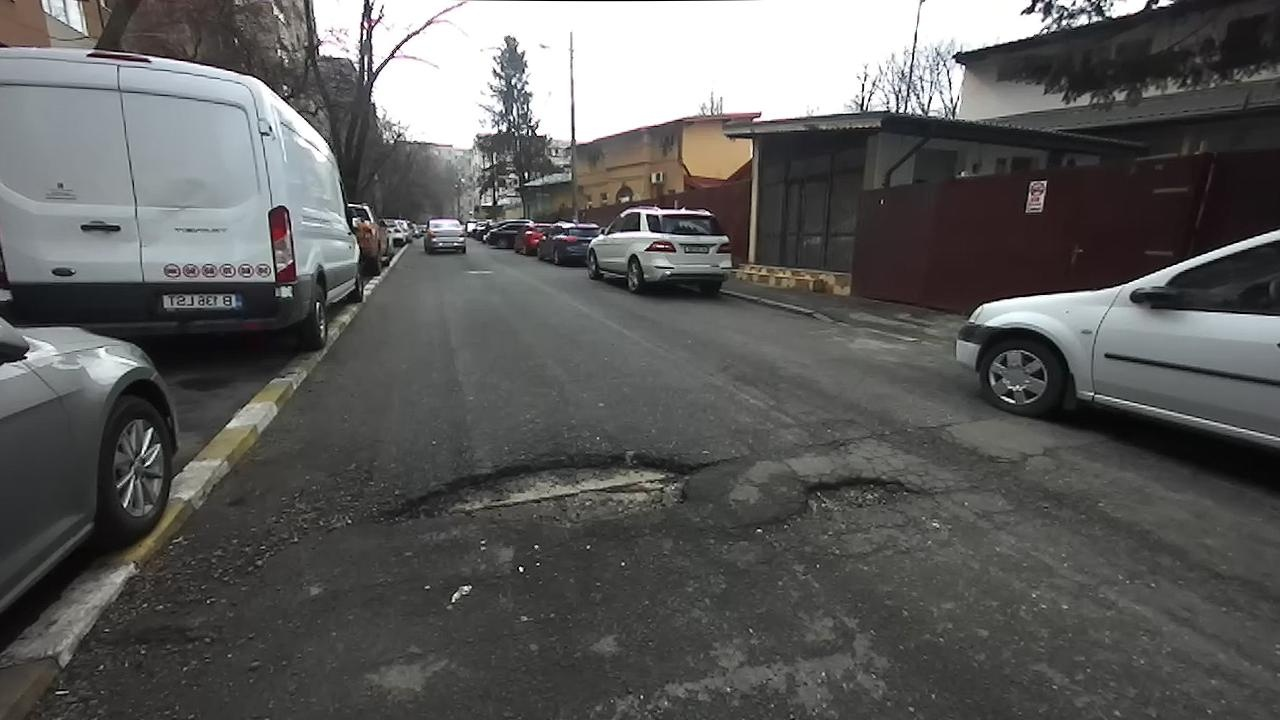pothole: (355, 445, 719, 540), (750, 470, 935, 530)
